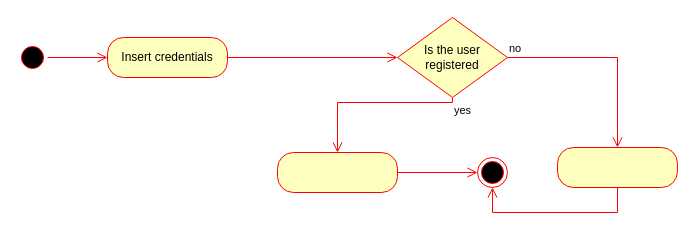
Some shapes in this 695 by 240 pixel diagram are drawn without their labels. Each missing label, with the box of its shape:
Login: (276, 152, 398, 192)
Register User: (556, 146, 678, 188)
